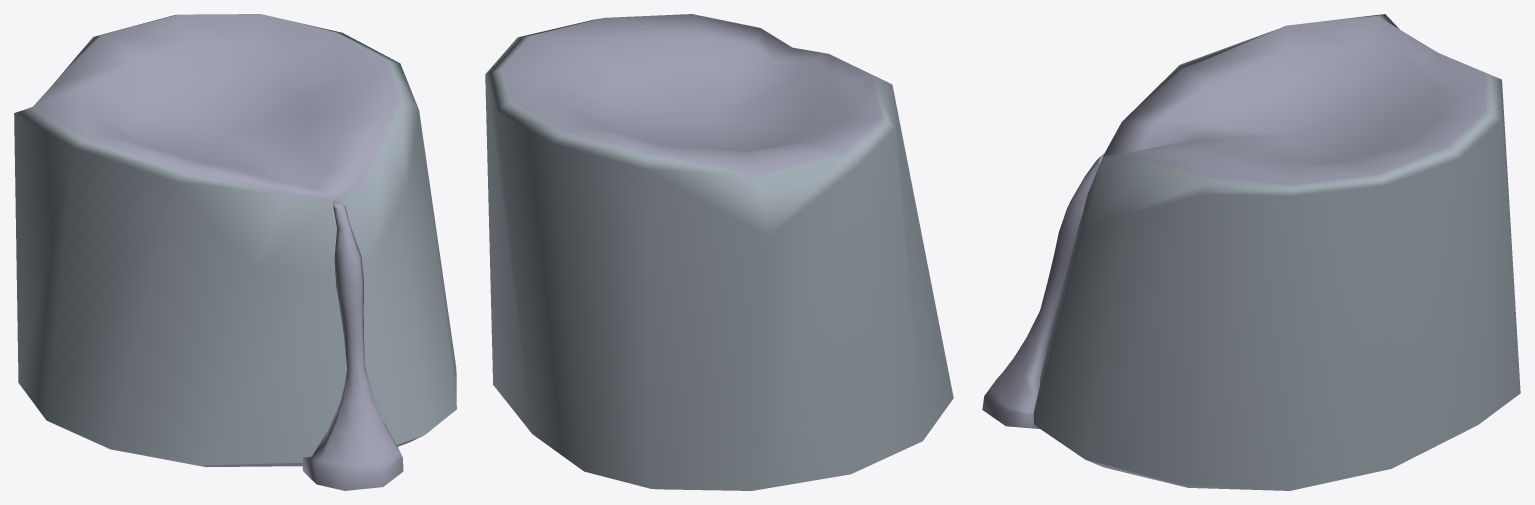
File: Candle2.fbx
3 views of the same model, side by side, from view 1: azimuth 30°, elevation 25°; view 2: azimuth 150°, elevation 25°; view 3: azimuth 270°, elevation 25° (orthographic). The views are drawn at different scales.
Parts seen in each view (by area): view 1: candle2; view 2: candle2; view 3: candle2.
Part boxes in pixels (x1,y1,x2,y2): candle2: (14, 14, 456, 490); candle2: (485, 14, 953, 490); candle2: (982, 14, 1520, 490).
Size of the model in its own units: 2.09 by 1.62 by 2.49.
